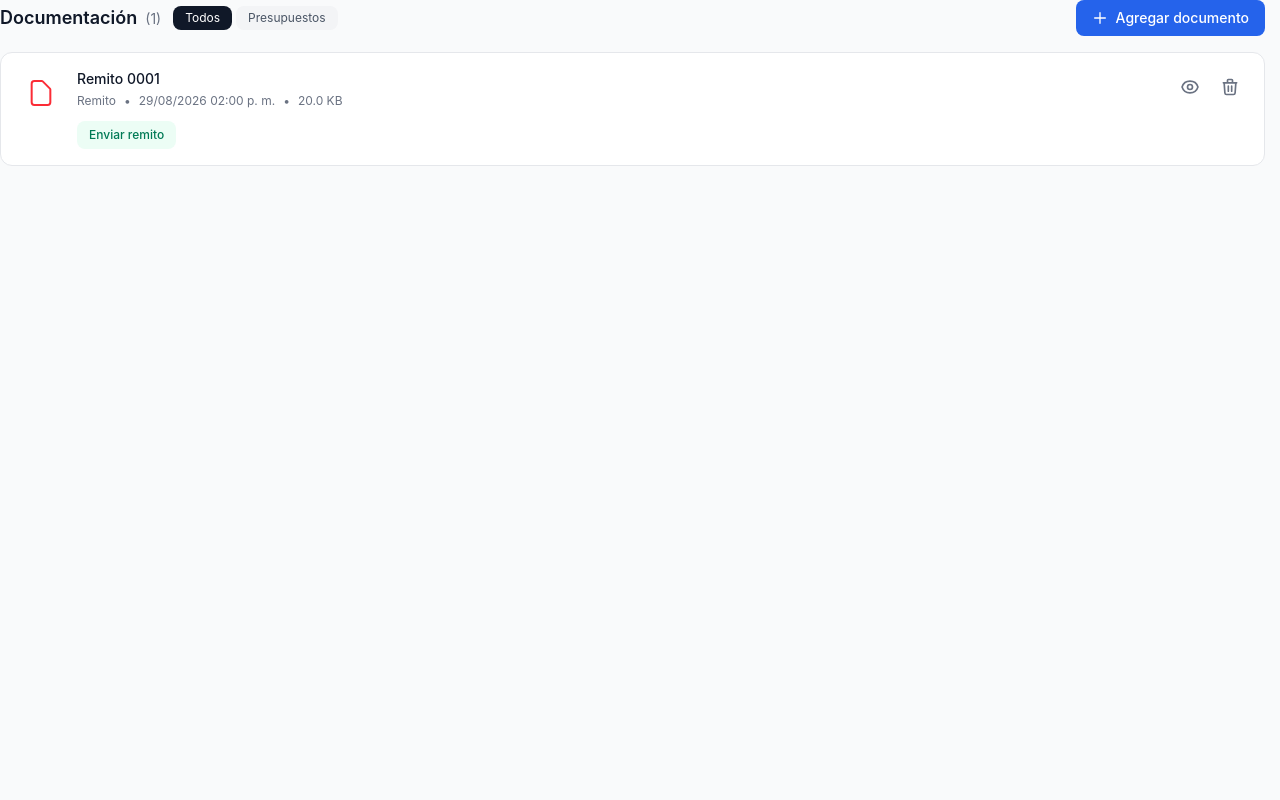
Test case: LeadDocumentationTab — remito delivery › blocks the remito send when WhatsApp fails and does not POST /api/crm/remitos
Click the button "Enviar remito" at (127, 135), box [77, 121, 176, 149]
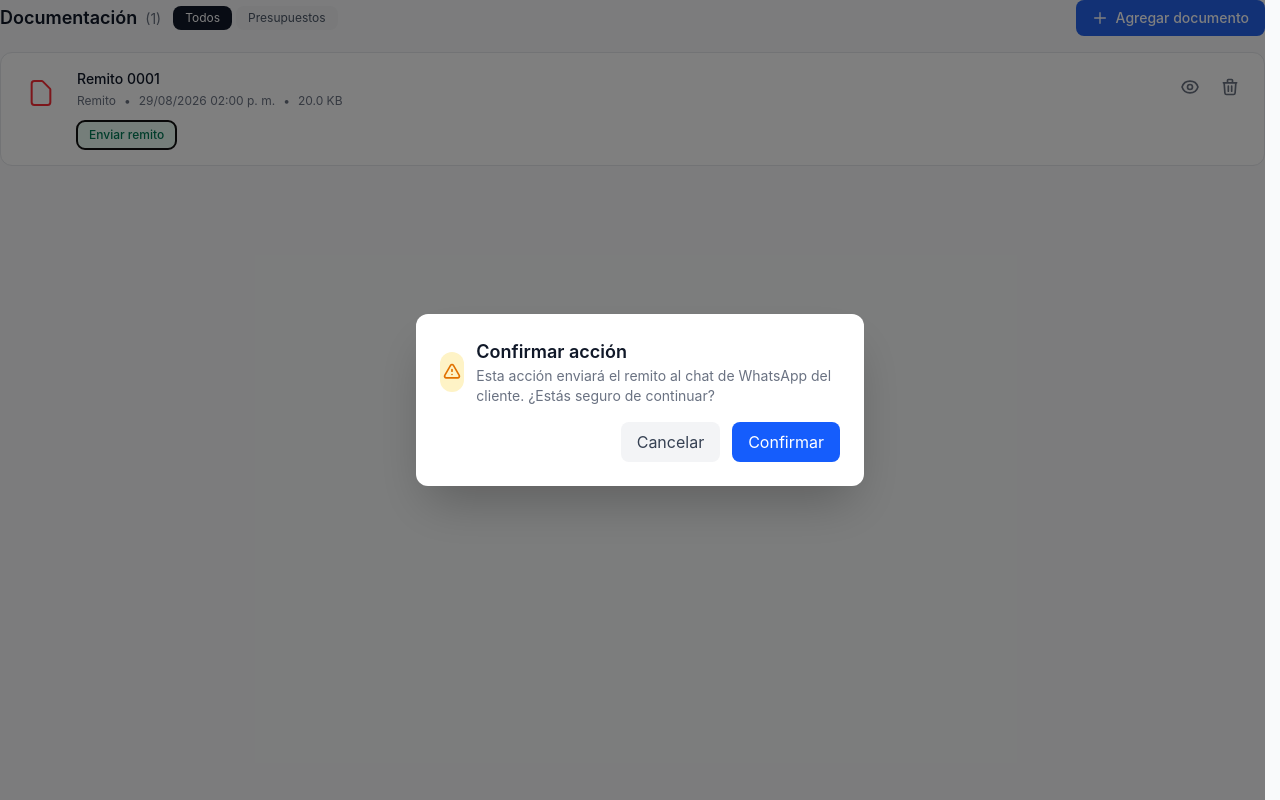
Click the button "Confirmar" at (786, 442), box [732, 422, 840, 462]
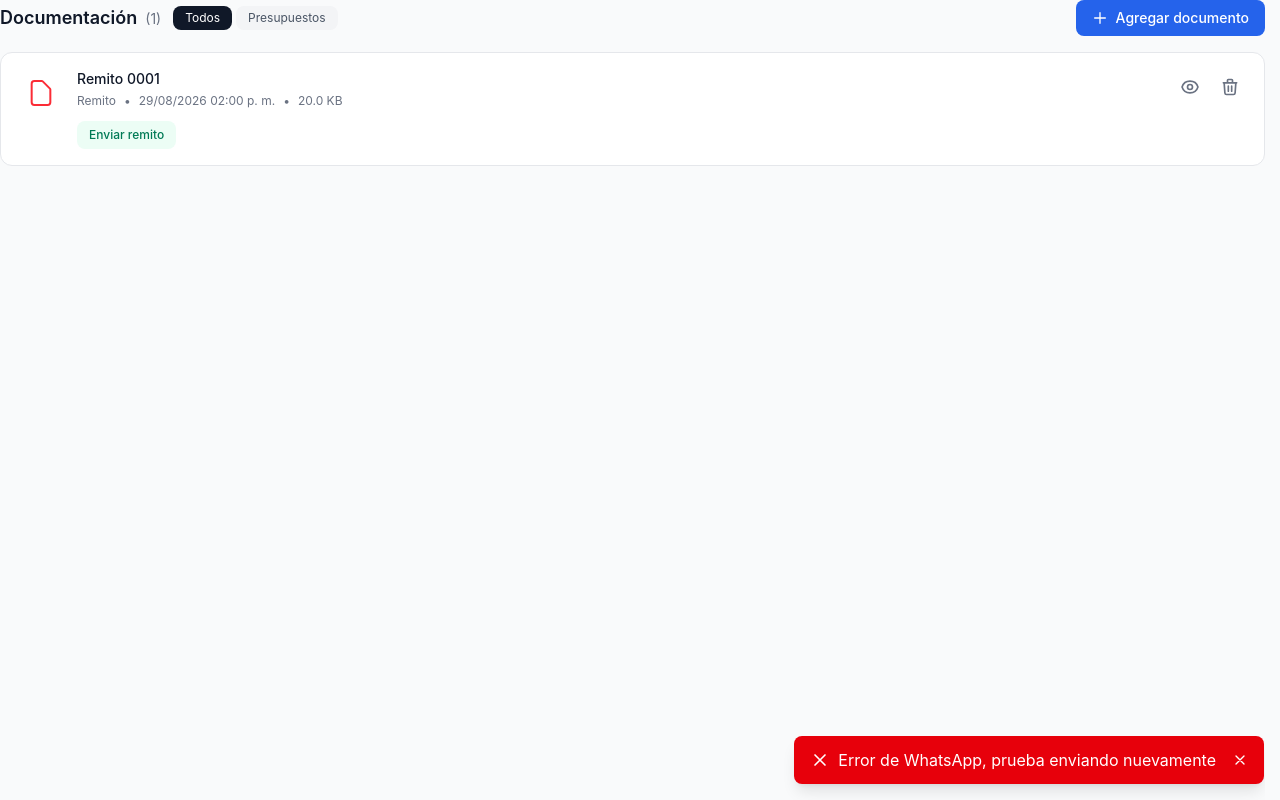
Expected: the button "Enviar remito" is shown, [77, 121, 176, 149]
Now the text "Error de WhatsApp, prueba enviando nuevamente" is shown, box [838, 748, 1216, 772]
